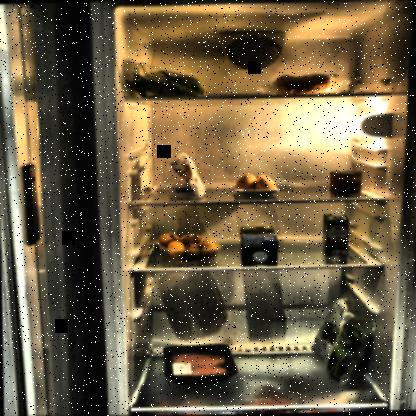chicken: (168, 347, 235, 382)
corn: (326, 168, 365, 198)
eggs: (235, 172, 277, 194)
green_beans: (124, 68, 208, 101)
heavy_cream: (320, 210, 350, 258)
milk: (236, 224, 282, 264)
potato: (156, 230, 218, 261)
spinach: (308, 297, 377, 393)
